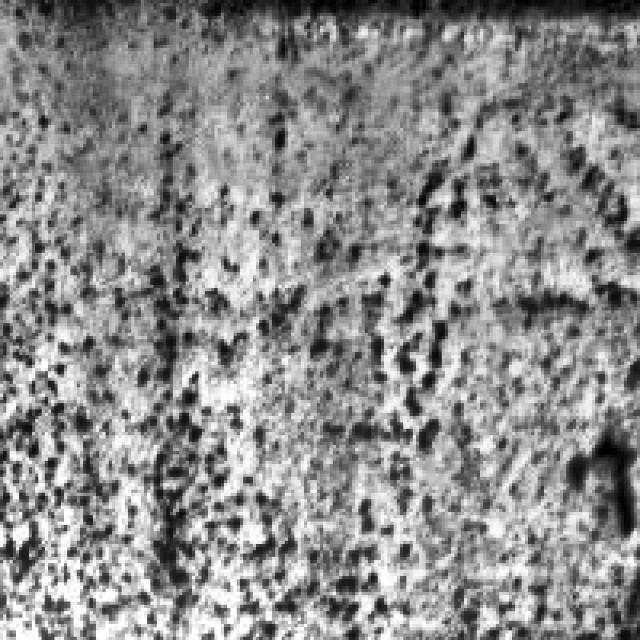Rolled_in_Scale: (9, 22, 620, 605)
